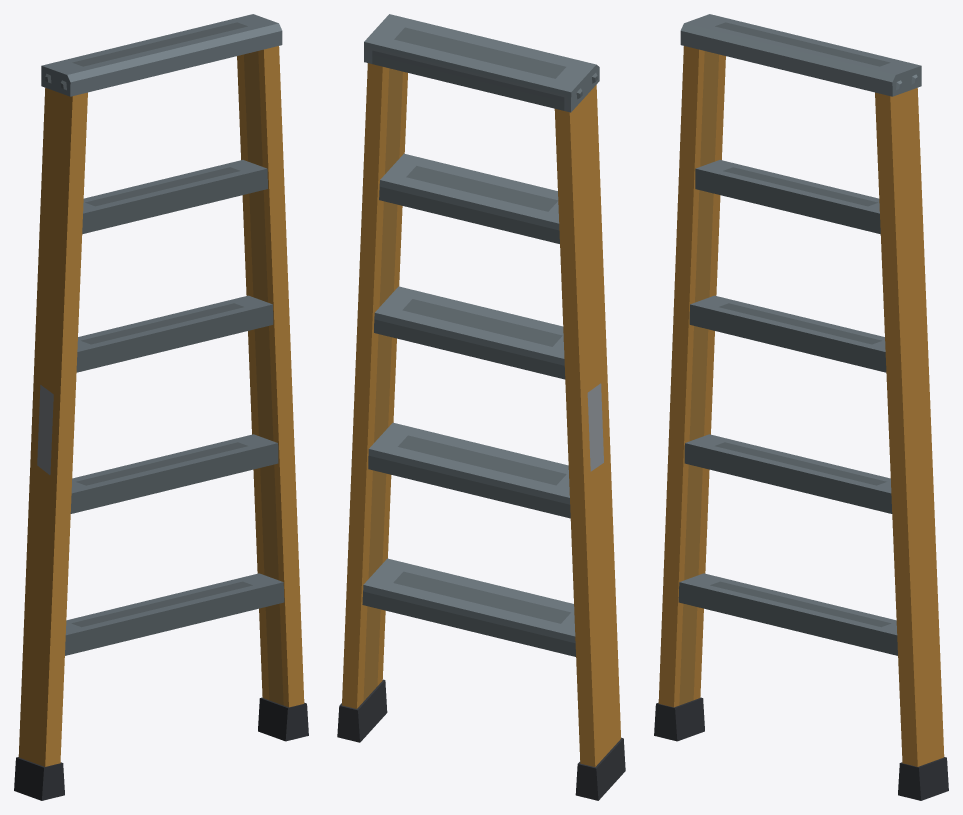
File: SM_Prop_Warehouse_Step_Ladder_03_Pivot_01.obj
3 views of the same model, side by side, from view 1: azimuth 30°, elevation 25°; view 2: azimuth 150°, elevation 25°; view 3: azimuth 330°, elevation 25° (orthographic). The views are drawn at different scales.
Parts seen in each view (by area): view 1: SM_Prop_Warehouse_Step_Ladder_03_Pivot_01_0; view 2: SM_Prop_Warehouse_Step_Ladder_03_Pivot_01_0; view 3: SM_Prop_Warehouse_Step_Ladder_03_Pivot_01_0.
Part boxes in pixels (box(x1,y1,x2,y2)): SM_Prop_Warehouse_Step_Ladder_03_Pivot_01_0: box(14, 14, 308, 800); SM_Prop_Warehouse_Step_Ladder_03_Pivot_01_0: box(337, 14, 625, 800); SM_Prop_Warehouse_Step_Ladder_03_Pivot_01_0: box(654, 14, 948, 800).
Bounding box in the file's own units: 0.6256 × 1.63 × 0.1187.
1 material, 1 textured.
